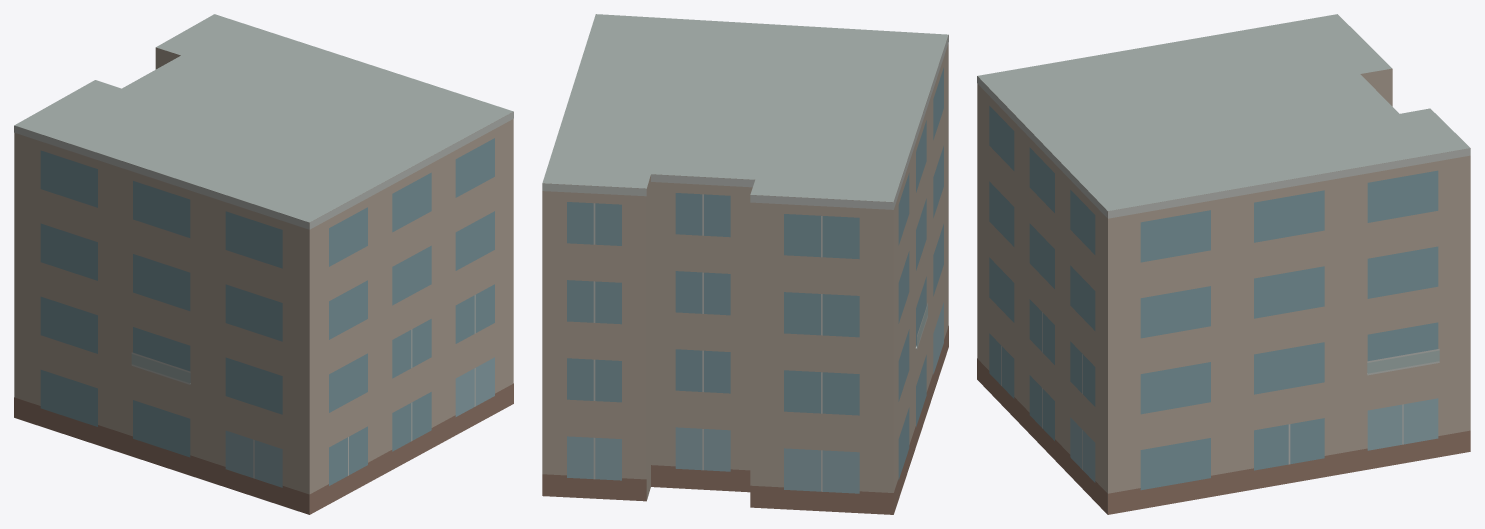
The model's file is survey-upis-32508091.glb.
3 renders of one model, left to right at view 1: azimuth 30°, elevation 25°; view 2: azimuth 150°, elevation 25°; view 3: azimuth 270°, elevation 25°, orthographic. The views are drawn at different scales.
Visible parts, largest first — view 1: survey-upis-32508091.tmp; view 2: survey-upis-32508091.tmp; view 3: survey-upis-32508091.tmp.
Part boxes in pixels (x1,y1,x2,y2): survey-upis-32508091.tmp: (14, 14, 513, 514); survey-upis-32508091.tmp: (542, 14, 948, 514); survey-upis-32508091.tmp: (977, 14, 1470, 514).
Size of the model in its own units: 13.73 by 9.85 by 14.51.
